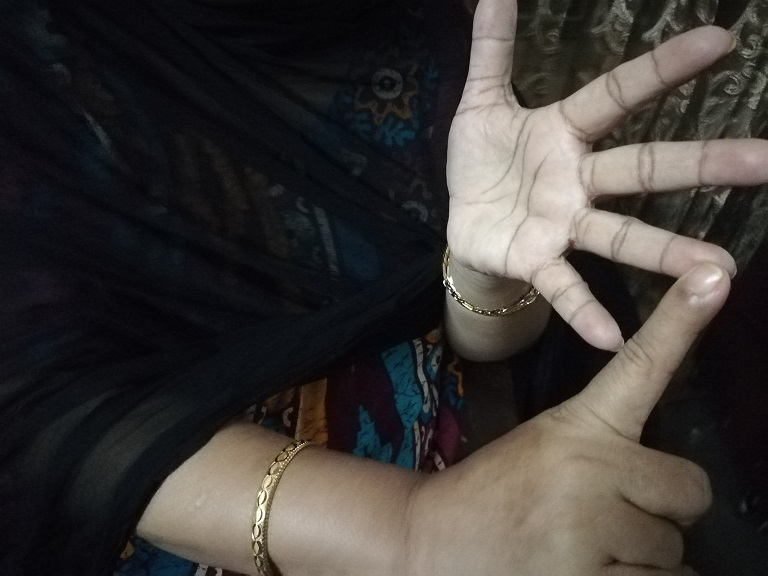e: (456, 1, 761, 576)
